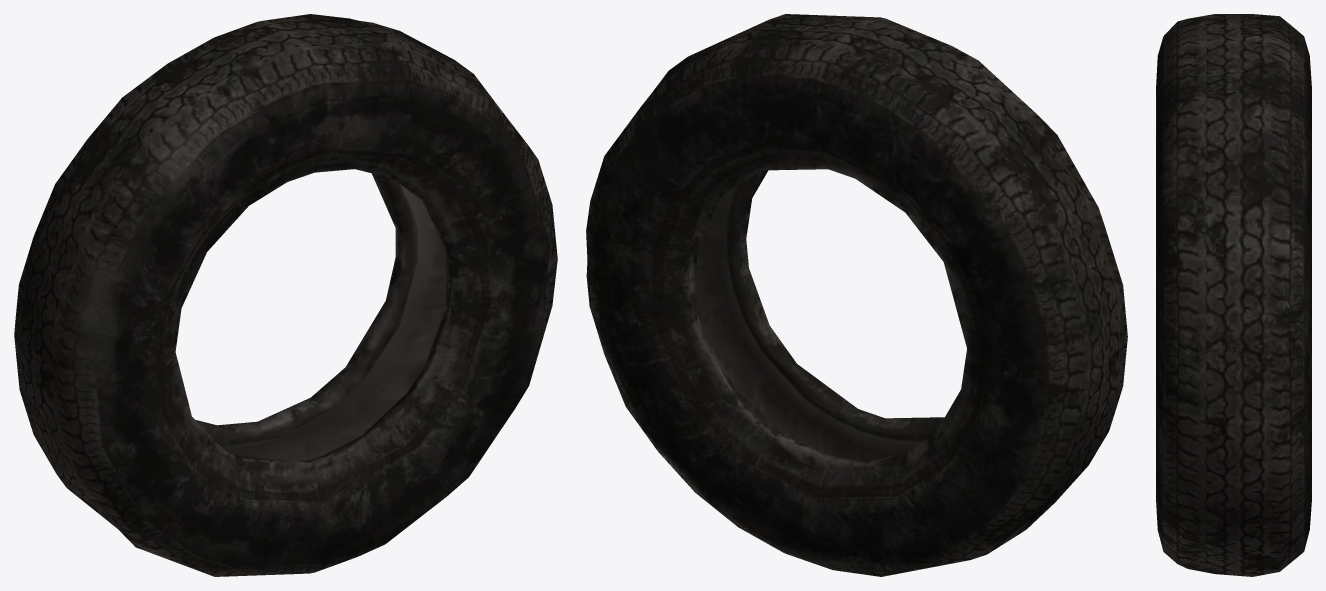
File: old_tyre.glb
The picture shows the model from 3 angles, left to right: view 1: azimuth 30°, elevation 25°; view 2: azimuth 150°, elevation 25°; view 3: azimuth 270°, elevation 25°; orthographic projection. The views are drawn at different scales.
Visible parts, largest first — view 1: old_tyre; view 2: old_tyre; view 3: old_tyre.
Part boxes in pixels (<box>): old_tyre: <box>14,14,557,576</box>; old_tyre: <box>586,14,1127,576</box>; old_tyre: <box>1156,14,1311,576</box>.
Bounding box in the file's own units: 0.6 × 0.6 × 0.165.
Materials: 1 (1 with a texture image).
